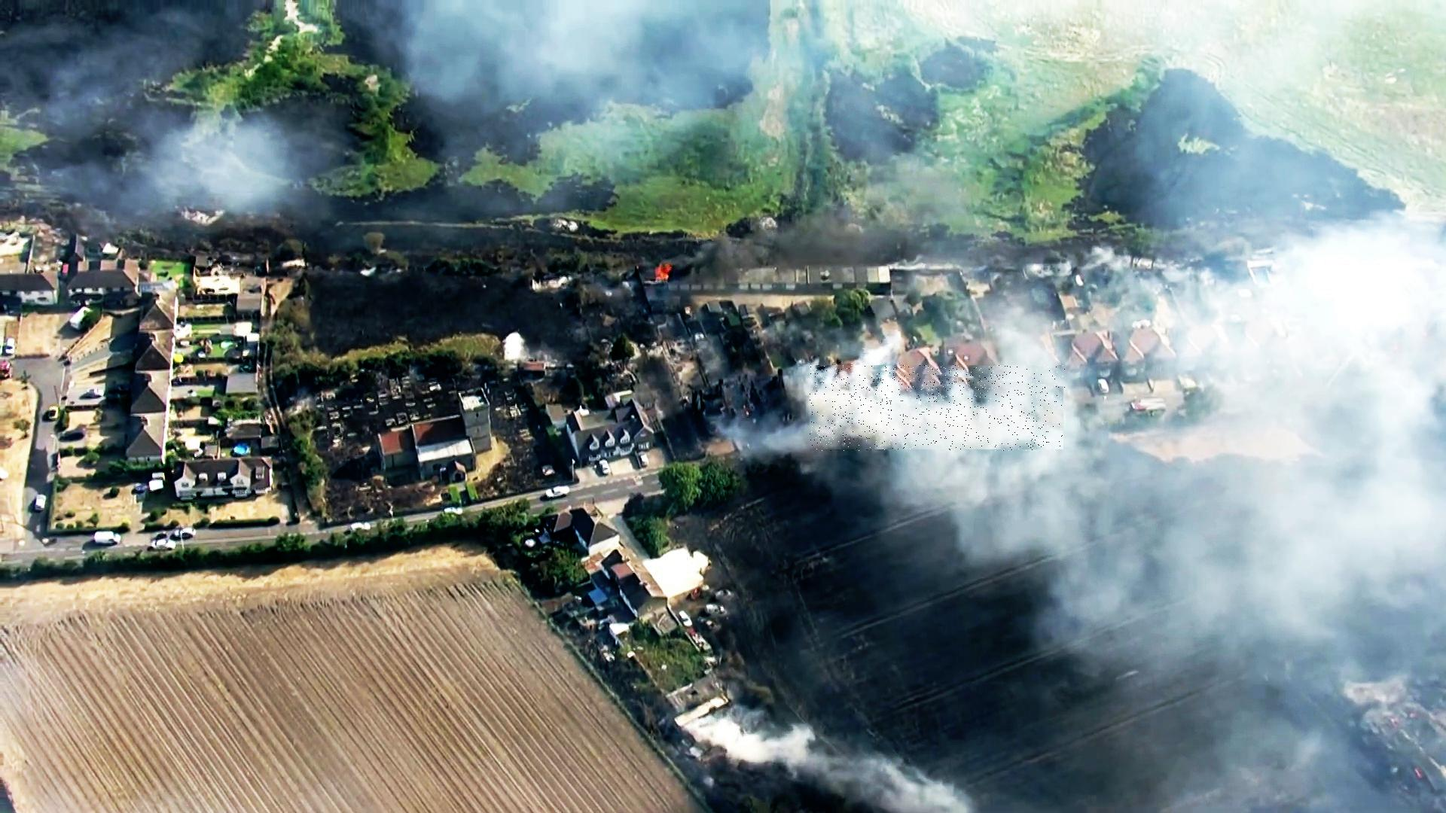smoke: (810, 366, 1065, 452)
